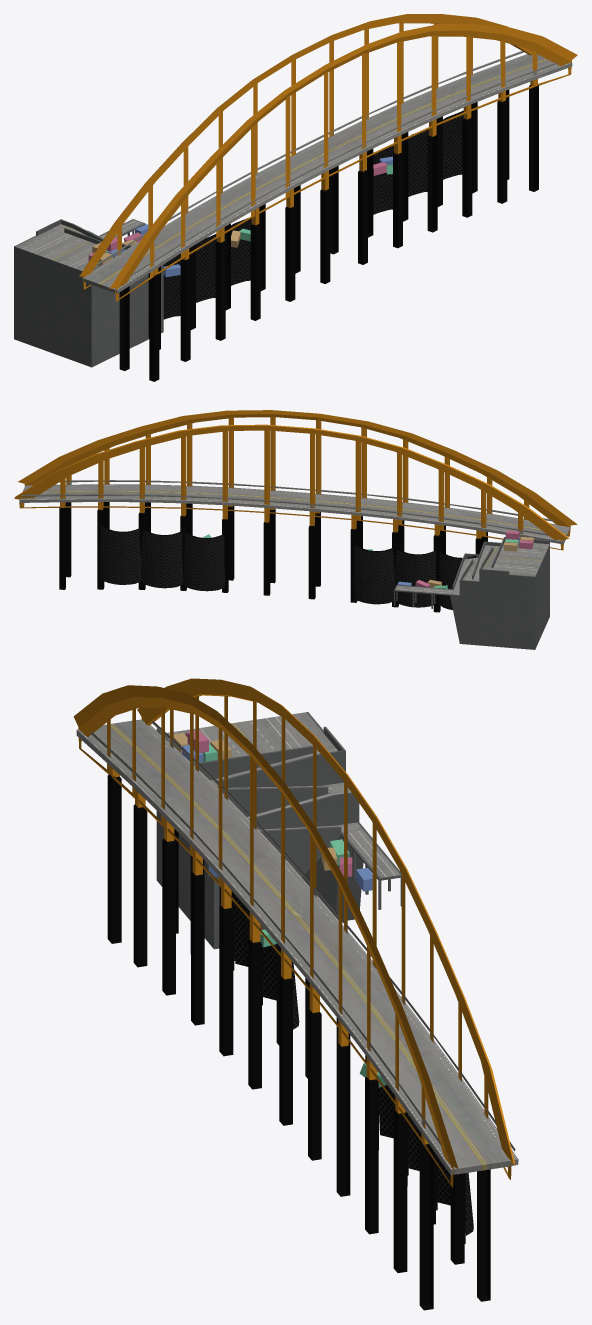
The model's file is NewSozaNewBridge.fbx.
3 renders of one model, top to bottom at view 1: azimuth 30°, elevation 25°; view 2: azimuth 150°, elevation 25°; view 3: azimuth 270°, elevation 25°, orthographic. The views are drawn at different scales.
Visible parts, largest first — view 1: Plane.007; view 2: Plane.007; view 3: Plane.007.
Boxes of the visible parts, left/top/right/bottom form: Plane.007: left=14, top=14, right=577, bottom=381; Plane.007: left=14, top=410, right=577, bottom=649; Plane.007: left=73, top=678, right=518, bottom=1310.
Size of the model in its own units: 582 by 210 by 234.
